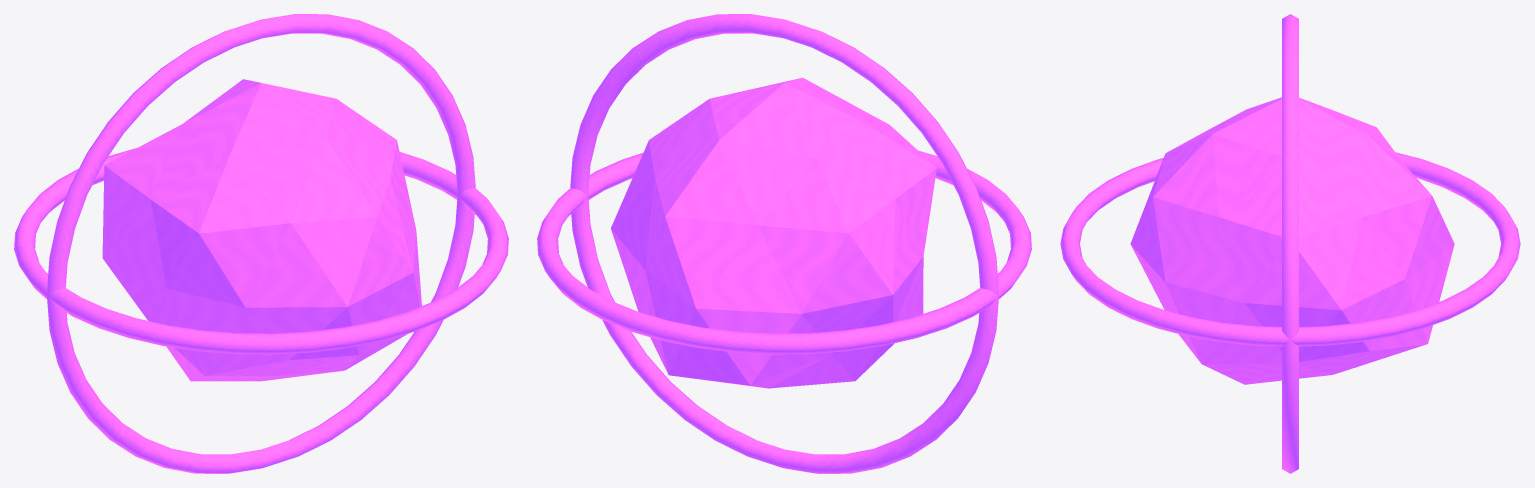
The model's file is FXM_WaveOrb.fbx.
3 renders of one model, left to right at view 1: azimuth 30°, elevation 25°; view 2: azimuth 150°, elevation 25°; view 3: azimuth 270°, elevation 25°, orthographic. The views are drawn at different scales.
Parts seen in each view (by area): view 1: SM_FXM_WaveOrb; view 2: SM_FXM_WaveOrb; view 3: SM_FXM_WaveOrb.
Boxes of the visible parts, bbox=[...] form: SM_FXM_WaveOrb: bbox=[14, 14, 508, 473]; SM_FXM_WaveOrb: bbox=[537, 14, 1031, 473]; SM_FXM_WaveOrb: bbox=[1060, 14, 1520, 473].
Bounding box in the file's own units: 113 × 113 × 113.
Materials: 1 (1 with a texture image).
